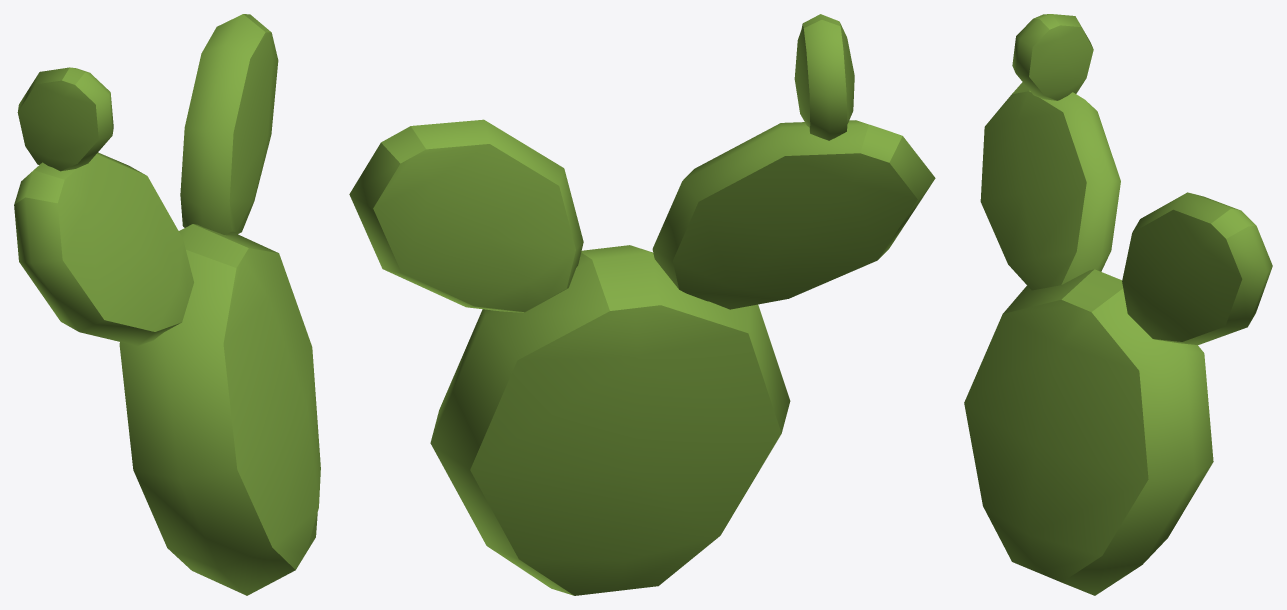
The model's file is 仙人掌3.fbx.
3 renders of one model, left to right at view 1: azimuth 30°, elevation 25°; view 2: azimuth 150°, elevation 25°; view 3: azimuth 270°, elevation 25°, orthographic. The views are drawn at different scales.
Parts seen in each view (by area): view 1: pCube27; view 2: pCube27; view 3: pCube27.
Part boxes in pixels (x1,y1,x2,y2): pCube27: [14, 14, 320, 595]; pCube27: [349, 14, 935, 595]; pCube27: [964, 14, 1272, 595].
Size of the model in its own units: 241 by 332 by 191.
